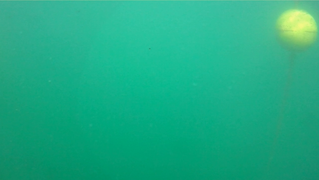buoy: (273, 9, 319, 54)
